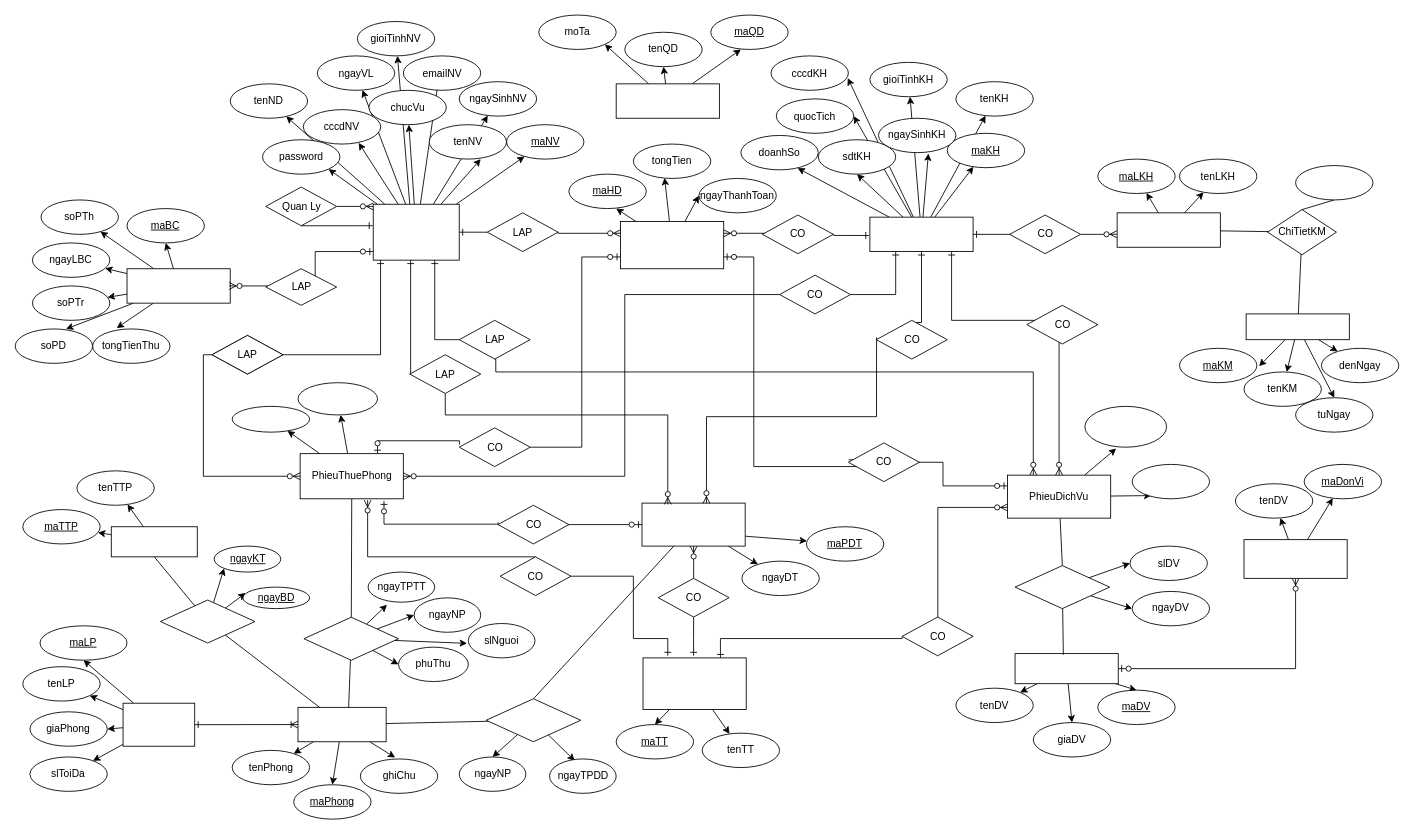
The diagram is 1414 pixels wide and 834 high, and some of its shapes have lost their labels. Each missing label, with the box of its shape:
BaoCao: (126, 268, 230, 303)
ChiTietPDT: (485, 698, 581, 742)
ChiTietPDV: (1014, 565, 1110, 609)
ChiTietPTP: (303, 616, 399, 660)
ChiTietTTP: (160, 599, 255, 643)
DichVu: (1014, 653, 1118, 684)
DonVi: (1243, 539, 1347, 578)
HoaDon: (620, 221, 724, 269)
KhachHang: (869, 216, 973, 252)
KhuyenMai: (1245, 313, 1349, 340)
LoaiKhachHang: (1116, 212, 1220, 247)
LoaiPhong: (122, 702, 195, 746)
maPDV: (1084, 405, 1167, 447)
maPTP: (231, 405, 310, 432)
NhanVien: (372, 203, 459, 260)
phanTramKM: (1295, 165, 1373, 200)
PhieuDatTruoc: (641, 502, 745, 546)
Phong: (297, 706, 386, 742)
QuyDinh: (615, 83, 719, 118)
tienDV: (1131, 464, 1210, 499)
tienPhong: (297, 382, 378, 415)
TinhTrangPhieu: (642, 657, 746, 710)
TinhTrangPhong: (110, 526, 197, 557)
